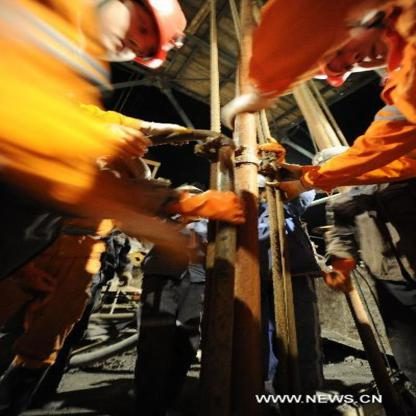face: (103, 4, 165, 61), (323, 31, 395, 74)
